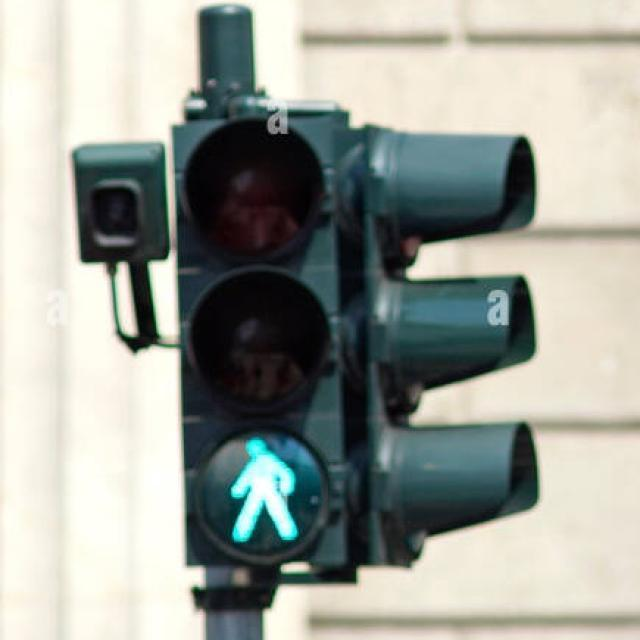green_light: (212, 428, 308, 550)
